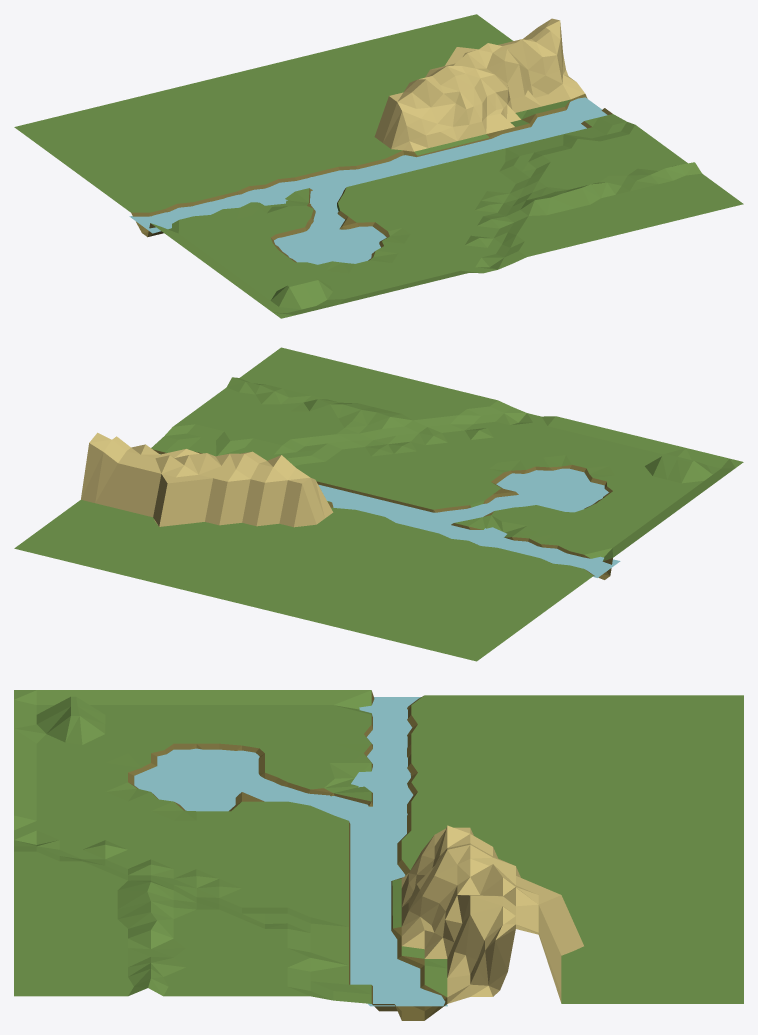
File: MainMap.fbx
3 renders of one model, top to bottom at view 1: azimuth 30°, elevation 25°; view 2: azimuth 150°, elevation 25°; view 3: azimuth 270°, elevation 25°, orthographic. The views are drawn at different scales.
Visible parts, largest first — view 1: Plane.002, Plane.003; view 2: Plane.002, Plane.003; view 3: Plane.002, Plane.003.
Boxes of the visible parts, x1=… form: Plane.002: x1=14, y1=14, x2=743, y2=318; Plane.003: x1=129, y1=97, x2=607, y2=264; Plane.002: x1=14, y1=347, x2=743, y2=661; Plane.003: x1=159, y1=454, x2=620, y2=577; Plane.002: x1=14, y1=690, x2=743, y2=1020; Plane.003: x1=134, y1=697, x2=447, y2=1006.
Bounding box in the file's own units: 6035 × 866 × 6000.
